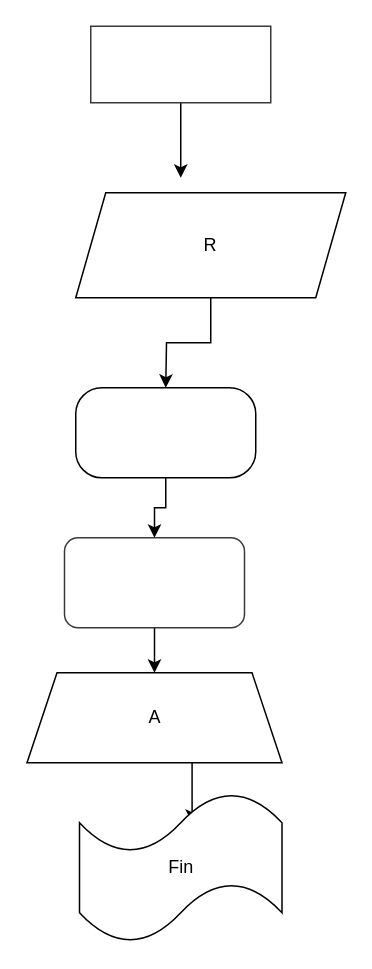
The diagram is 372 pixels wide and 969 high, and some of its shapes have lost their labels. The centre of each missing label's shape, as x and y in pixels:
"Inicio" goes at pixel 180 64.
"R*R*PI=A" goes at pixel 153 582.
